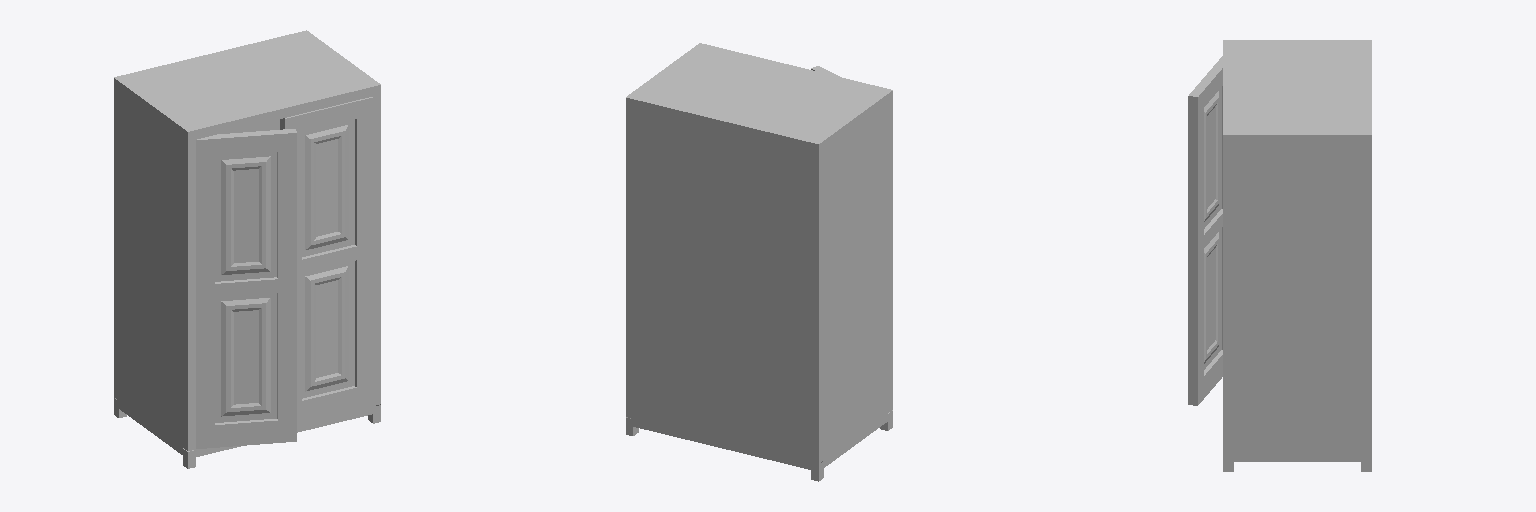
The model's file is kastje goeie pivot point.obj.
3 renders of one model, left to right at view 1: azimuth 30°, elevation 25°; view 2: azimuth 150°, elevation 25°; view 3: azimuth 270°, elevation 25°, orthographic.
Visible parts, largest first — view 1: kast_frame, deur_links, deur_rechts; view 2: kast_frame; view 3: kast_frame, deur_links.
Part boxes in pixels (bbox=[...]): kast_frame: bbox=[114, 30, 380, 468]; deur_links: bbox=[196, 129, 296, 448]; deur_rechts: bbox=[280, 97, 373, 424]; kast_frame: bbox=[626, 43, 892, 481]; kast_frame: bbox=[1223, 40, 1371, 471]; deur_links: bbox=[1188, 56, 1222, 405].
Size of the model in its own units: 76.2 by 127 by 62.57.